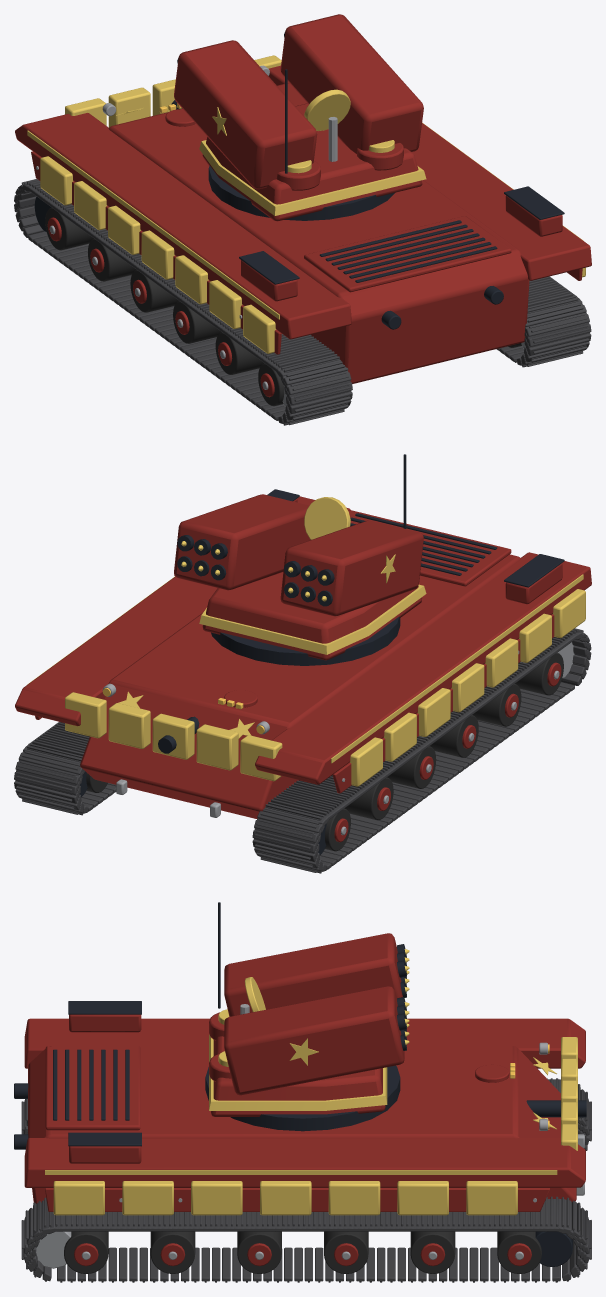
File: baeren_moerser.glb
The picture shows the model from 3 angles, top to bottom: view 1: azimuth 30°, elevation 25°; view 2: azimuth 150°, elevation 25°; view 3: azimuth 270°, elevation 25°; orthographic projection.
Parts seen in each view (by area): view 1: hull_core, fender_-1, pod_-1, pod_1, fender_1, Tracks3, Tracks1, Tracks0, engine_deck, launcher_base, Tracks2, launcher_band (+33 smaller); view 2: hull_core, fender_-1, Tracks0, fender_1, pod_-1, pod_1, launcher_base, Tracks1, turret_ring, engine_deck, launcher_band, Tracks2 (+25 smaller); view 3: hull_core, fender_1, Tracks0, pod_1, fender_-1, pod_-1, Tracks1, engine_deck, launcher_base, skirt_1, Tracks3, Tracks2 (+24 smaller).
Boxes of the visible parts, <box> form: hull_core: <box>108,83,529,383</box>; fender_-1: <box>15,113,351,339</box>; pod_-1: <box>174,40,317,189</box>; pod_1: <box>280,14,423,153</box>; fender_1: <box>268,65,591,280</box>; Tracks3: <box>18,184,591,425</box>; Tracks1: <box>15,180,587,423</box>; Tracks0: <box>14,179,575,420</box>; engine_deck: <box>304,216,511,292</box>; launcher_base: <box>202,103,422,221</box>; Tracks2: <box>16,183,589,424</box>; launcher_band: <box>199,140,426,215</box>; hull_core: <box>80,554,520,818</box>; fender_-1: <box>255,552,591,784</box>; Tracks0: <box>14,632,587,873</box>; fender_1: <box>15,496,350,726</box>; pod_-1: <box>280,520,423,616</box>; pod_1: <box>174,494,310,590</box>; launcher_base: <box>202,572,421,660</box>; Tracks1: <box>15,631,588,872</box>; turret_ring: <box>211,616,400,665</box>; engine_deck: <box>348,510,511,586</box>; launcher_band: <box>199,584,426,654</box>; Tracks2: <box>18,630,589,871</box>; hull_core: <box>28,1046,576,1203</box>; fender_1: <box>24,1138,585,1187</box>; Tracks0: <box>32,1078,591,1282</box>; pod_1: <box>224,986,404,1095</box>; fender_-1: <box>24,1018,585,1068</box>; pod_-1: <box>224,933,402,1016</box>; Tracks1: <box>29,1078,588,1282</box>; engine_deck: <box>45,1046,140,1130</box>; launcher_base: <box>211,1036,385,1116</box>; skirt_1: <box>45,1188,549,1211</box>; Tracks3: <box>21,1099,581,1281</box>; Tracks2: <box>24,1079,584,1282</box>.
Bounding box in the file's own units: 2.18 × 1.78 × 3.36.
